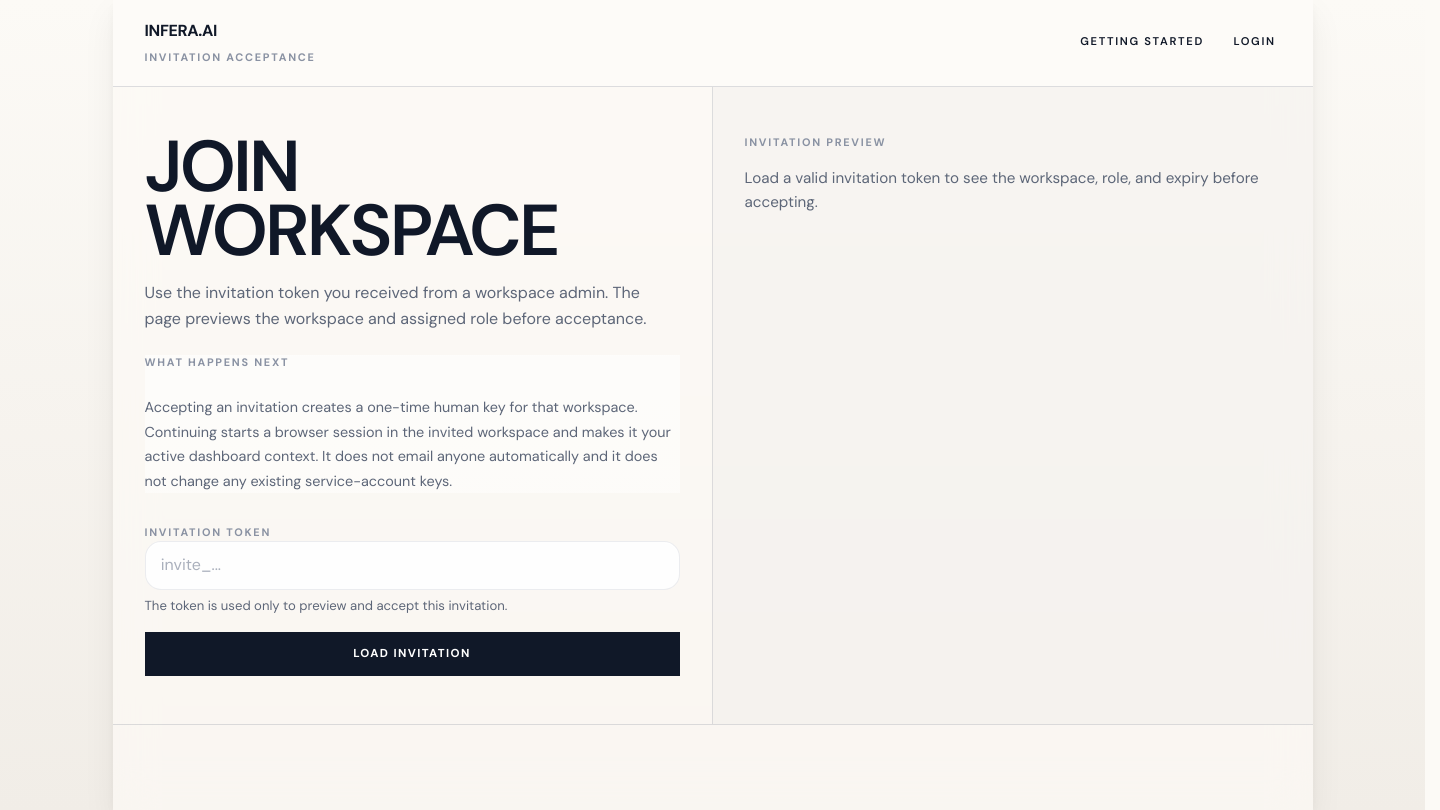
Scenario: AcceptInvitation › loads a manually entered token once when preserving it in the URL
Type "invite_valid" into the field labelled "INVITATION TOKEN" at (412, 565), box [144,541,680,590]
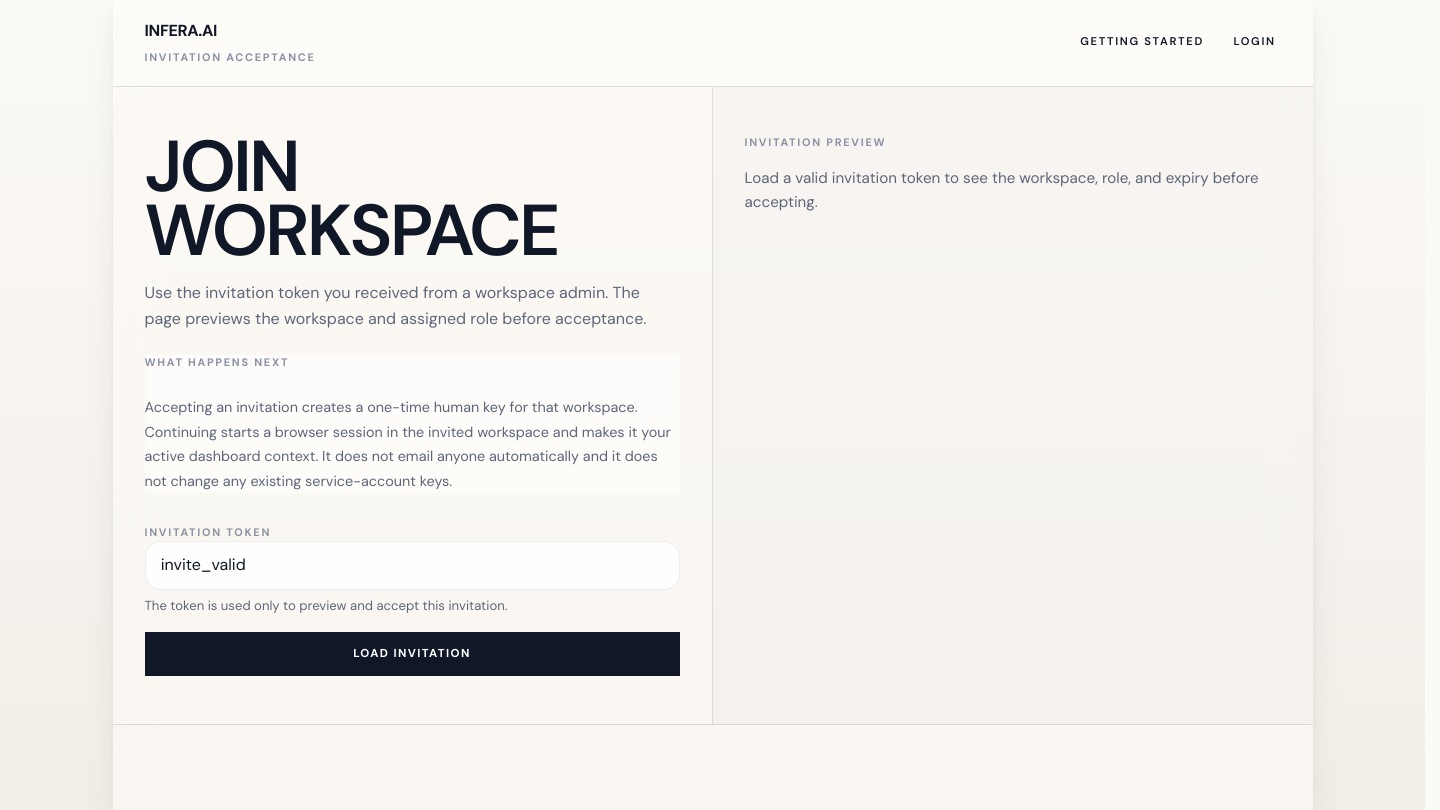
Click the button "LOAD INVITATION" at (412, 654), box [144,632,680,676]
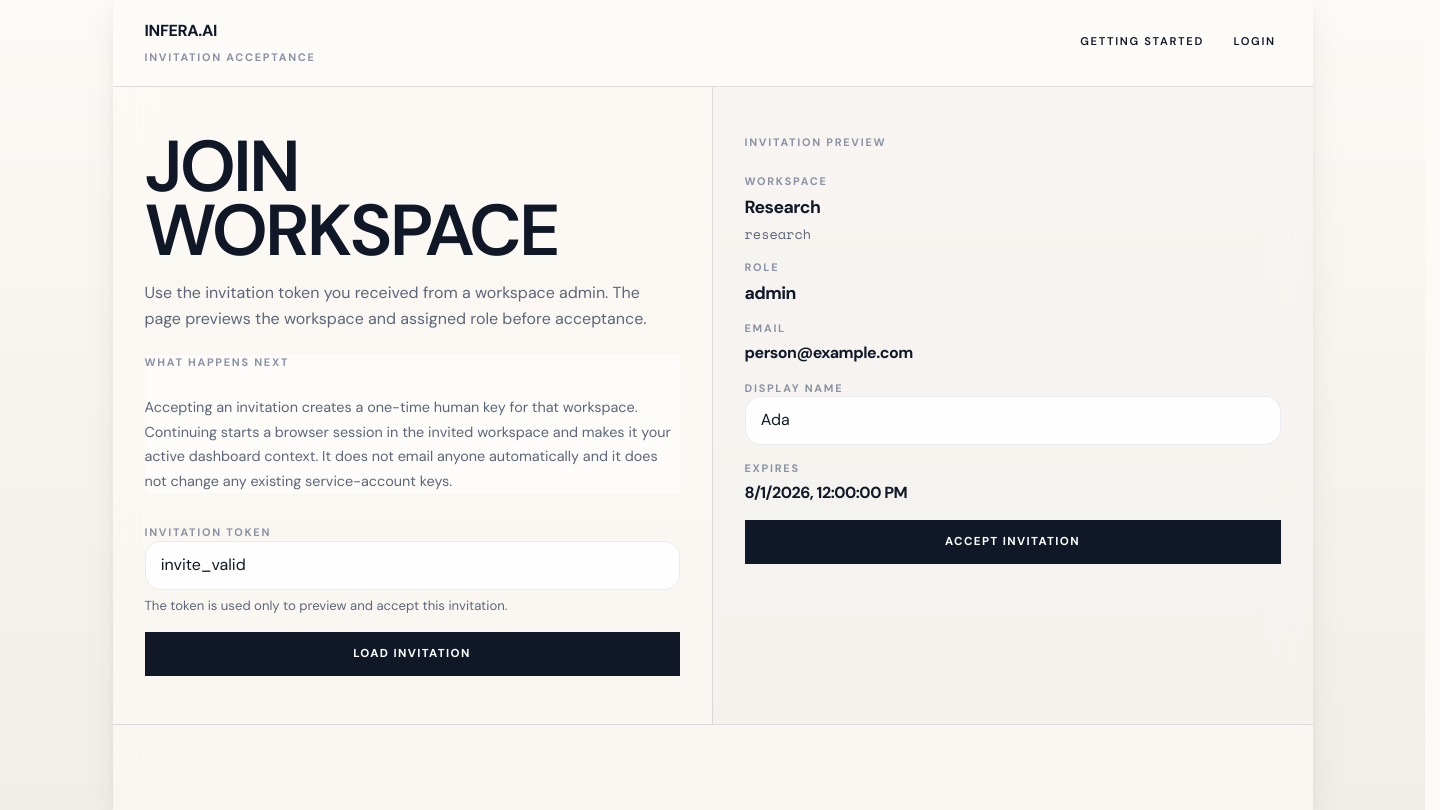
Check: the text "Research" is shown, box [744,196,820,218]
